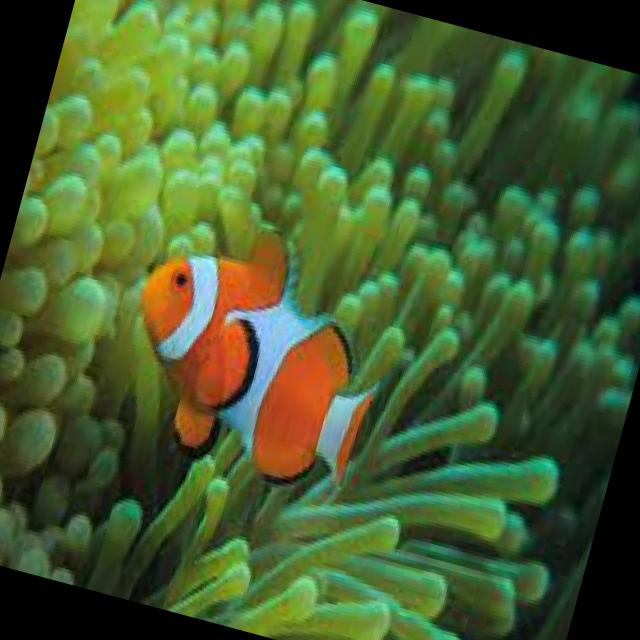ClownFish: (101, 204, 406, 505)
